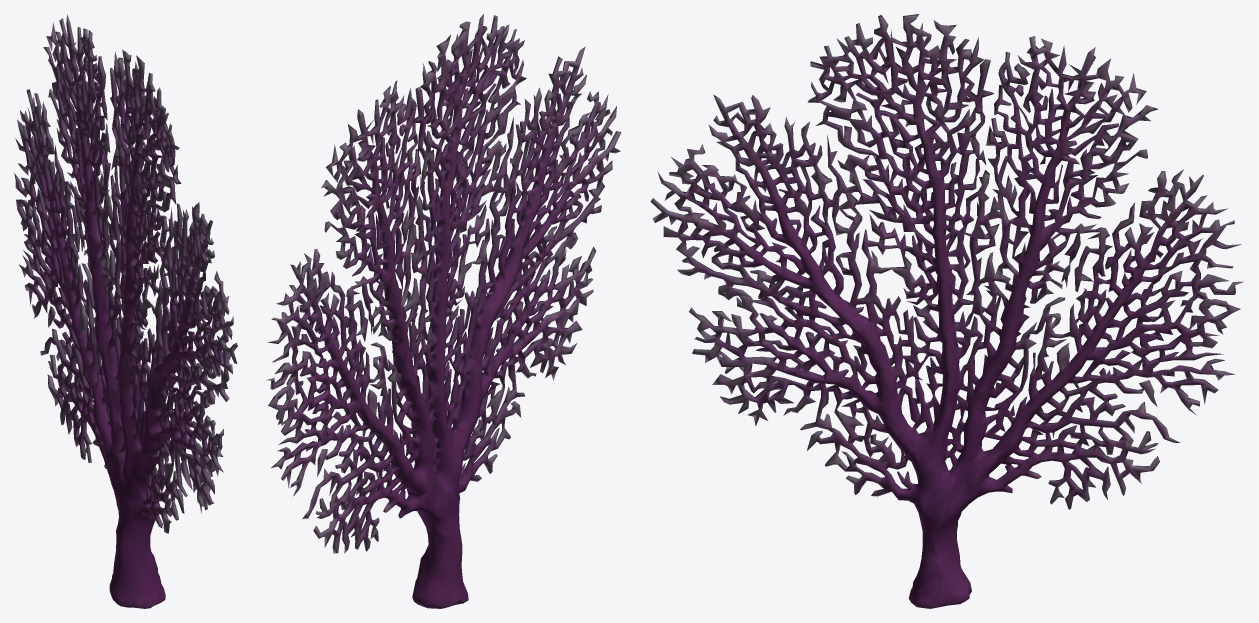
The model's file is fan.glb.
3 renders of one model, left to right at view 1: azimuth 30°, elevation 25°; view 2: azimuth 150°, elevation 25°; view 3: azimuth 270°, elevation 25°, orthographic. The views are drawn at different scales.
Parts seen in each view (by area): view 1: tripo_node_529d0d35-4140-4935-a6f3-d8f9179a9b3b; view 2: tripo_node_529d0d35-4140-4935-a6f3-d8f9179a9b3b; view 3: tripo_node_529d0d35-4140-4935-a6f3-d8f9179a9b3b.
Part boxes in pixels (box(x1,y1,x2,y2)): tripo_node_529d0d35-4140-4935-a6f3-d8f9179a9b3b: box(14, 14, 237, 608); tripo_node_529d0d35-4140-4935-a6f3-d8f9179a9b3b: box(266, 14, 621, 608); tripo_node_529d0d35-4140-4935-a6f3-d8f9179a9b3b: box(650, 14, 1243, 608).
Bounding box in the file's own units: 0.1204 × 1 × 0.9257.
1 material, 1 textured.
